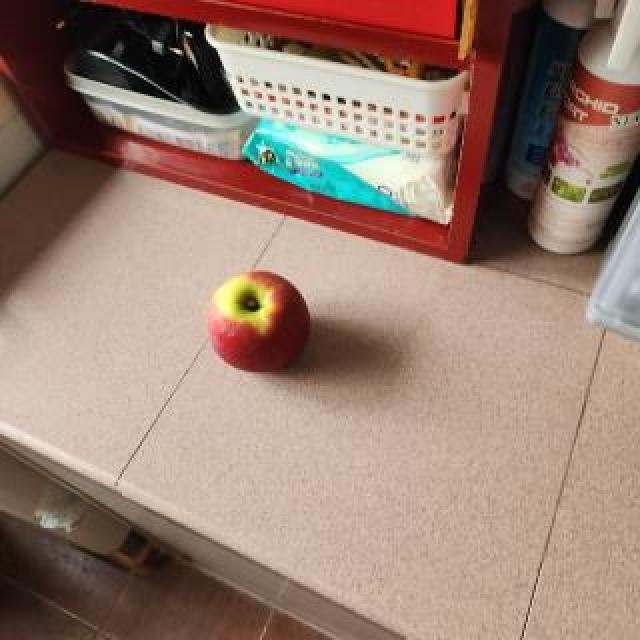Fresh Apple: (206, 267, 306, 382)
